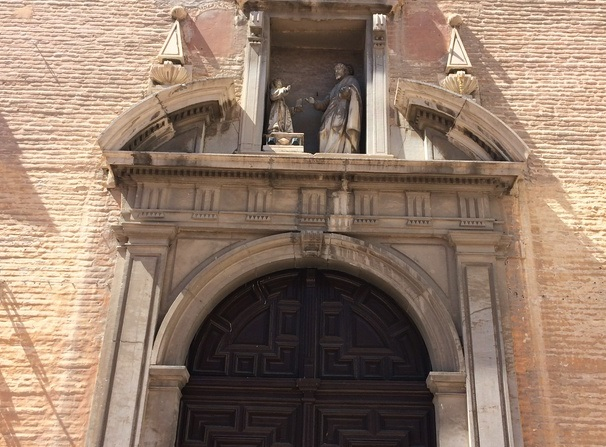arco-medio-punto: (171, 247, 452, 410)
fronton-partido: (92, 74, 540, 180)
vano-adintelado: (245, 9, 388, 156)
